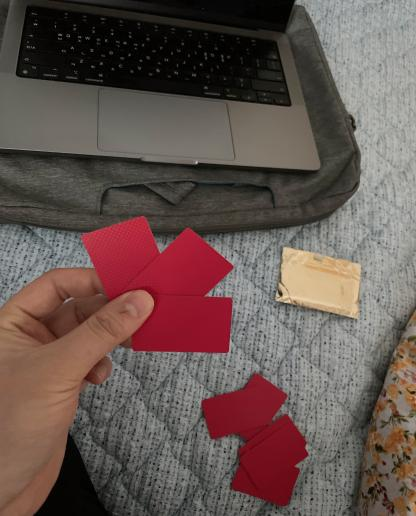ThreeHwatoo: (61, 208, 241, 361)
